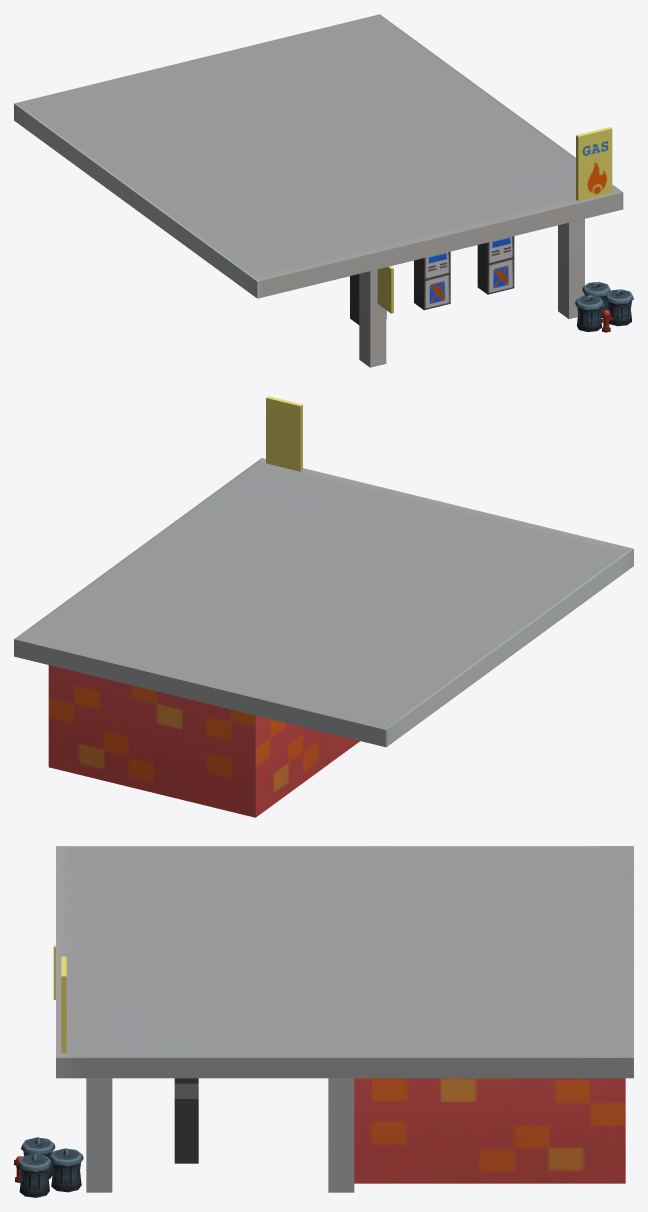
File: cay xang.fbx
3 renders of one model, top to bottom at view 1: azimuth 30°, elevation 25°; view 2: azimuth 150°, elevation 25°; view 3: azimuth 270°, elevation 25°, orthographic. The views are drawn at different scales.
Visible parts, largest first — view 1: cay_xang; view 2: cay_xang; view 3: cay_xang.
Part boxes in pixels (bbox=[...]): cay_xang: bbox=[14, 14, 633, 367]; cay_xang: bbox=[14, 396, 633, 817]; cay_xang: bbox=[14, 846, 633, 1197].
Size of the model in its own units: 1628 by 809 by 2013.
